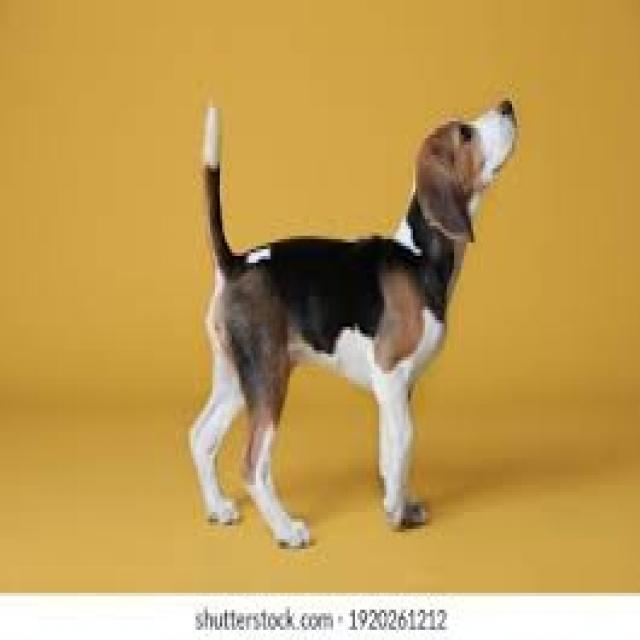Dog: (180, 91, 520, 555)
